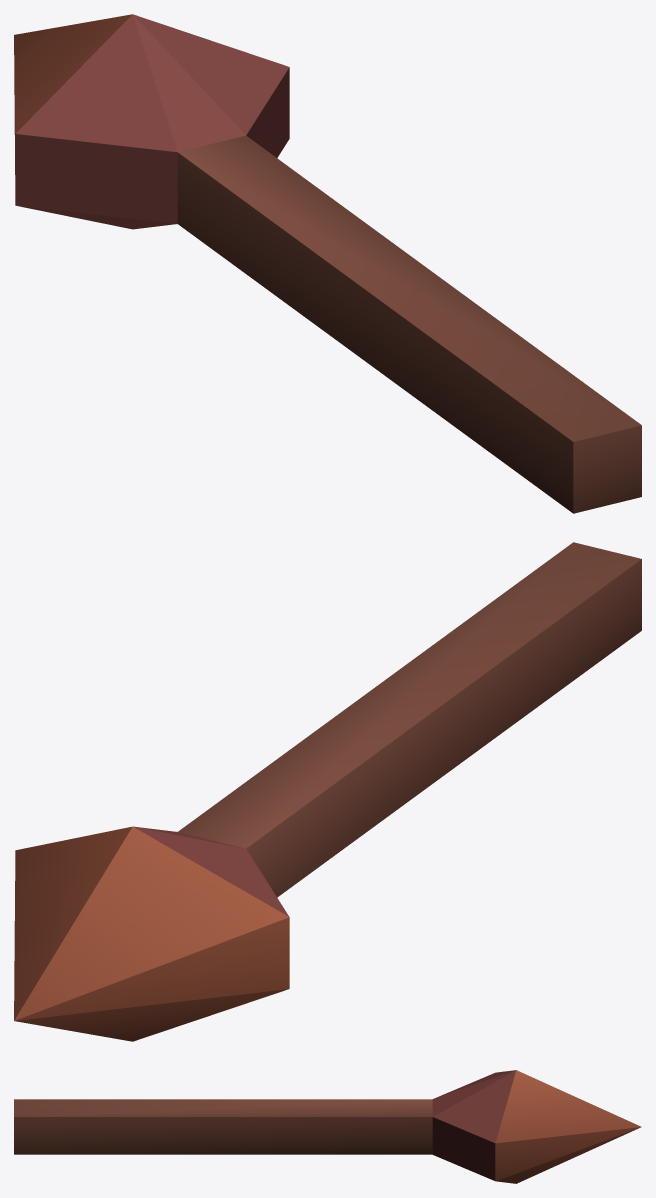
The model's file is dragon_bolt_projectile.glb.
The picture shows the model from 3 angles, top to bottom: view 1: azimuth 30°, elevation 25°; view 2: azimuth 150°, elevation 25°; view 3: azimuth 270°, elevation 25°; orthographic projection. The views are drawn at different scales.
Visible parts, largest first — view 1: Dragon bolt projectile spotanim; view 2: Dragon bolt projectile spotanim; view 3: Dragon bolt projectile spotanim.
Boxes of the visible parts, bbox=[...] form: Dragon bolt projectile spotanim: bbox=[14, 14, 641, 513]; Dragon bolt projectile spotanim: bbox=[14, 542, 641, 1041]; Dragon bolt projectile spotanim: bbox=[14, 1070, 641, 1183].
Bounding box in the file's own units: 8 × 6 × 30.
